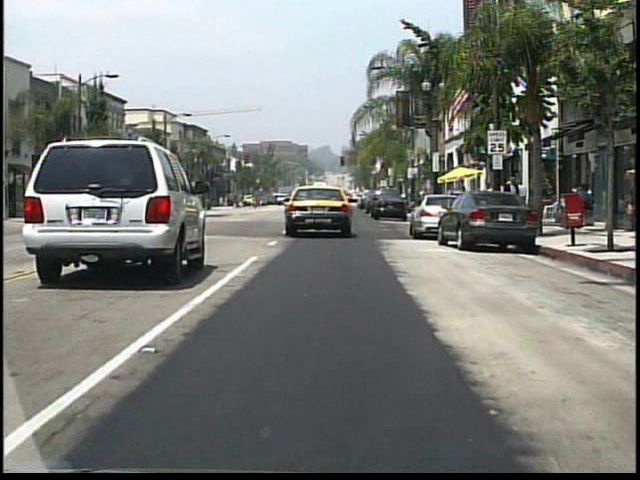person: (502, 175, 522, 218), (514, 179, 530, 221), (494, 179, 509, 218), (506, 182, 519, 217), (272, 191, 280, 206)
